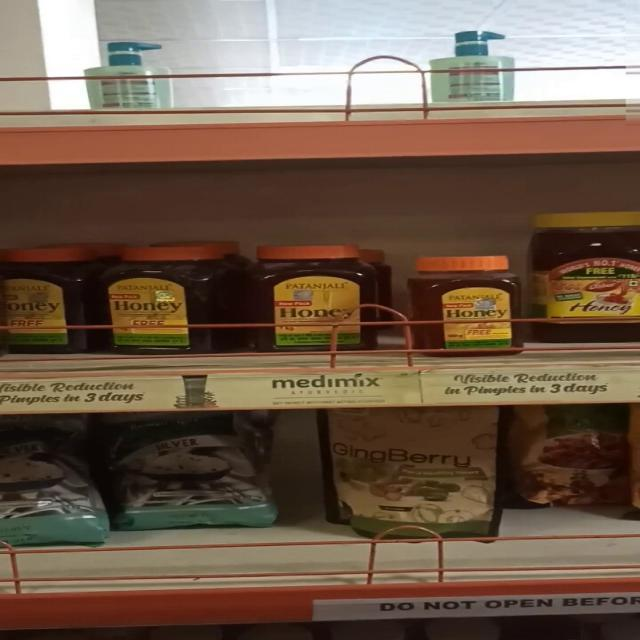Dabur Honey: (536, 216, 640, 344)
Patanjali Honey: (252, 246, 364, 352), (100, 245, 214, 348), (414, 260, 528, 357), (0, 245, 83, 357)
